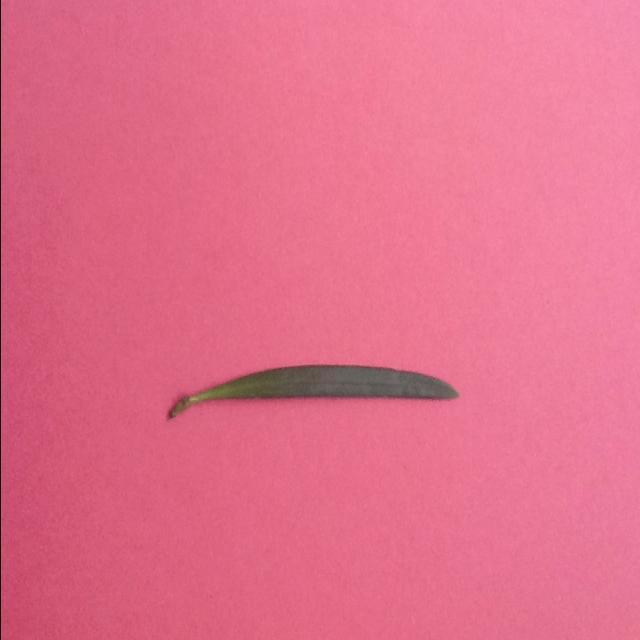foliage: (160, 362, 462, 418)
